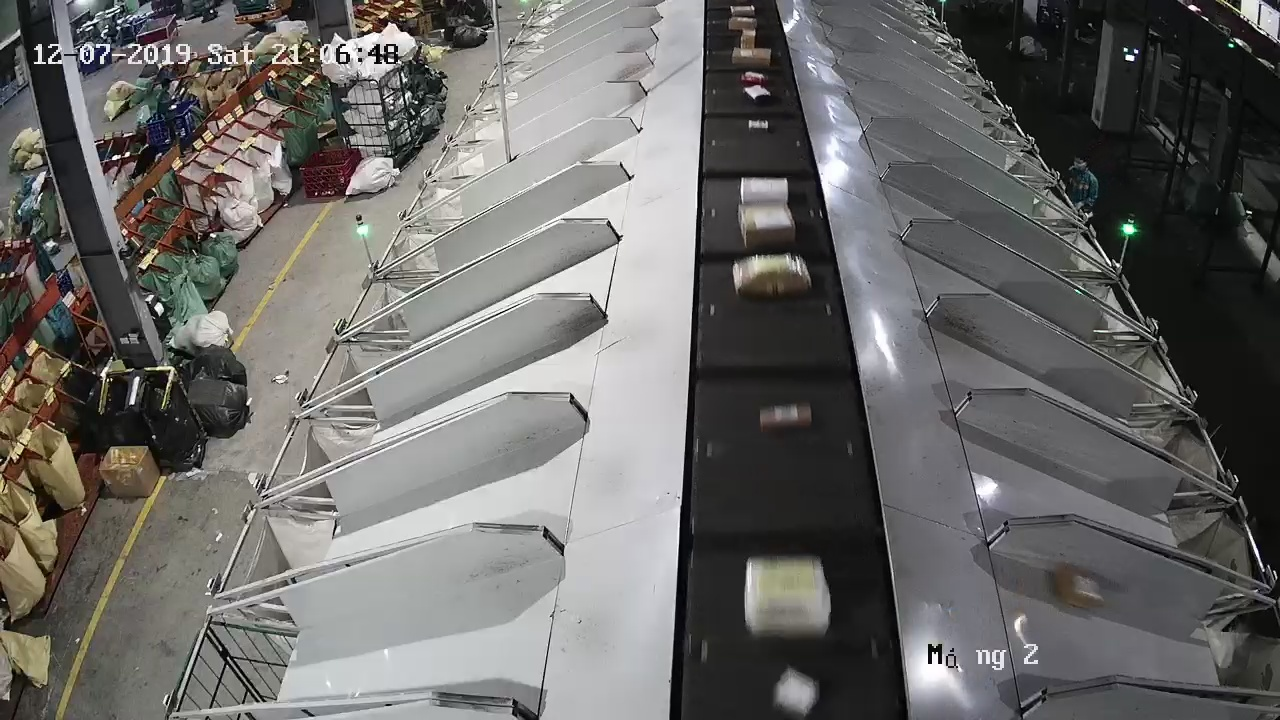parcel: (1053, 561, 1105, 612)
